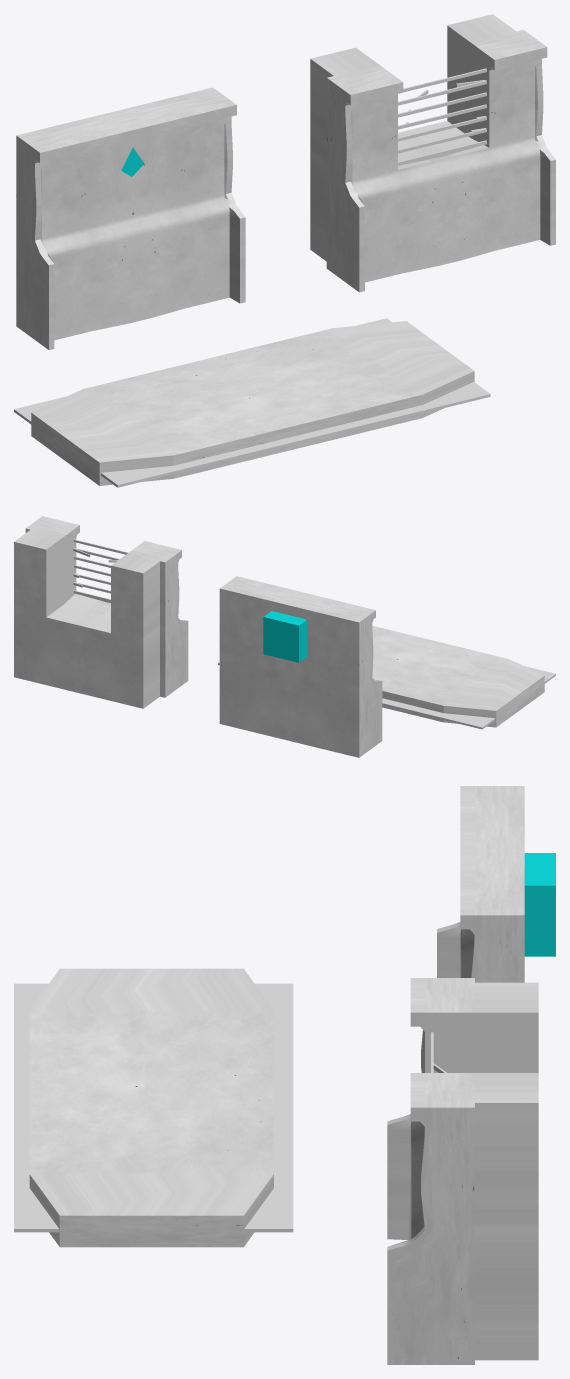
The model's file is ZavodAssets.fbx.
3 renders of one model, top to bottom at view 1: azimuth 30°, elevation 25°; view 2: azimuth 150°, elevation 25°; view 3: azimuth 270°, elevation 25°, orthographic. The views are drawn at different scales.
Visible parts, largest first — view 1: Cube.002, Cube, Cube.004, Cube.003, Latice 1, Latice 1 Broke; view 2: Cube.002, Cube, Cube.004, Cube.001, Cube.003, Latice 1; view 3: Cube.004, Cube.002, Cube, Cube.003, Cube.001.
Part boxes in pixels (box(x1,y1,x2,y2)): Cube.002: box(310, 14, 555, 292); Cube: box(16, 87, 245, 349); Cube.004: box(31, 321, 474, 485); Cube.003: box(14, 318, 490, 487); Latice 1: box(398, 68, 486, 165); Latice 1 Broke: box(398, 80, 486, 165); Cube.002: box(14, 516, 188, 708); Cube: box(219, 576, 382, 757); Cube.004: box(372, 625, 544, 727); Cube.001: box(263, 611, 307, 662); Cube.003: box(218, 662, 555, 729); Latice 1: box(74, 539, 128, 600); Cube.004: box(29, 968, 273, 1247); Cube.002: box(387, 978, 538, 1364); Cube: box(437, 786, 524, 982); Cube.003: box(14, 983, 293, 1232); Cube.001: box(524, 853, 555, 956).
Bounding box in the file's own units: 2305 × 772 × 1389.
2 materials, 1 textured.
